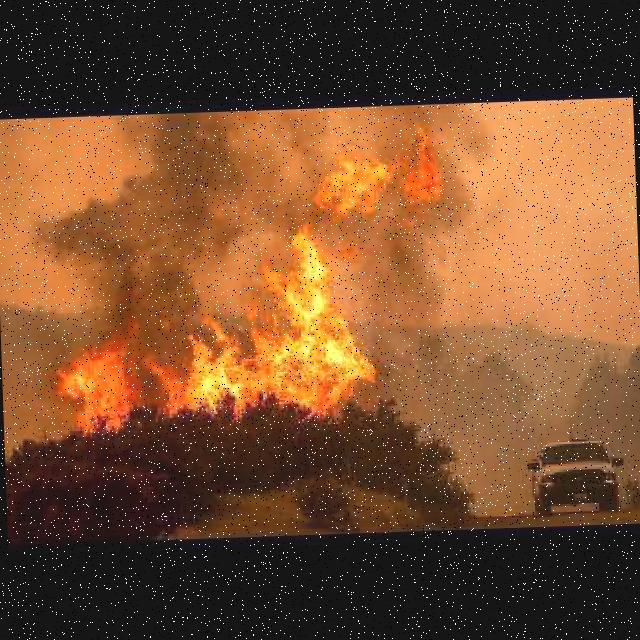Fire: (147, 108, 451, 414), (59, 336, 146, 429)
Smoke: (13, 109, 265, 341), (354, 199, 472, 381)
